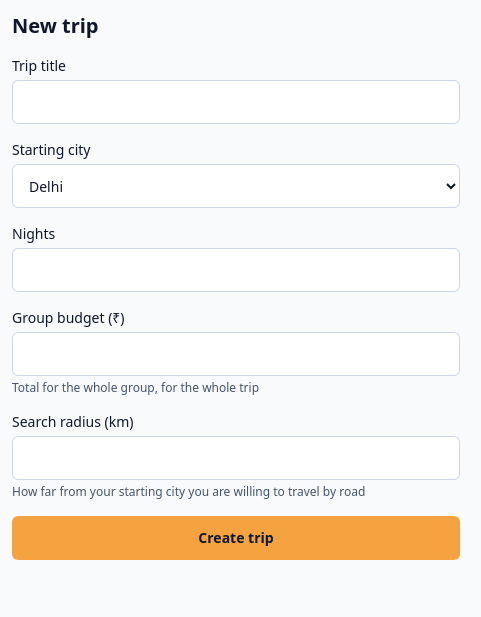
Test: TripForm › shows "Choose between 1 and 14 nights." for 15 and sends nothing
Type "Test weekend" into the field labelled "Trip title" at coordinates (236, 102), box x1=12 y1=80 x2=460 y2=124
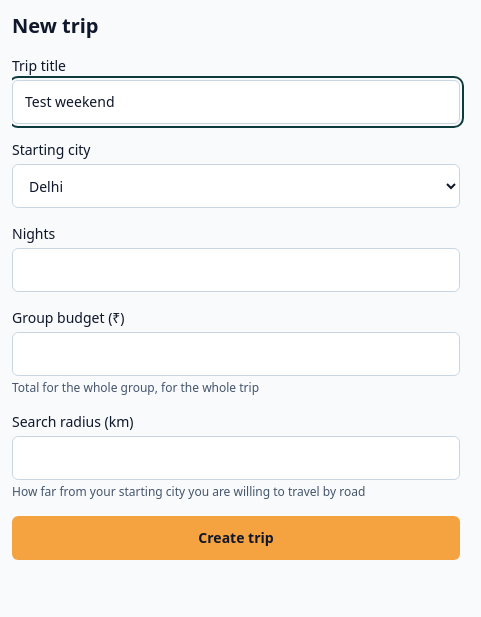
Select "Delhi" in the dropdown labelled "Starting city" at coordinates (236, 186), box x1=12 y1=164 x2=460 y2=208
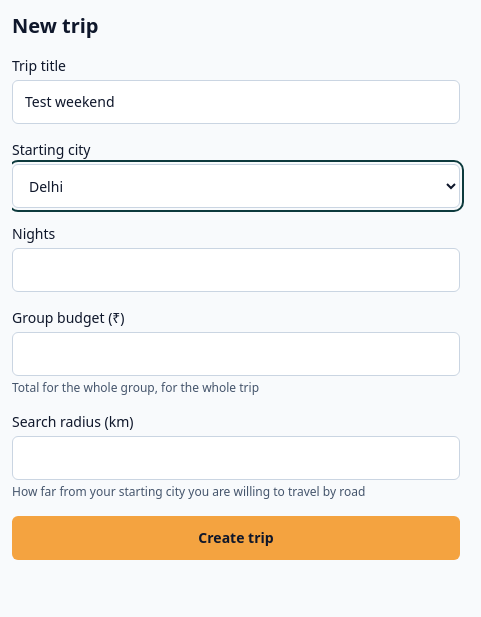
Type "15" into the field labelled "Nights" at coordinates (236, 270), box x1=12 y1=248 x2=460 y2=292
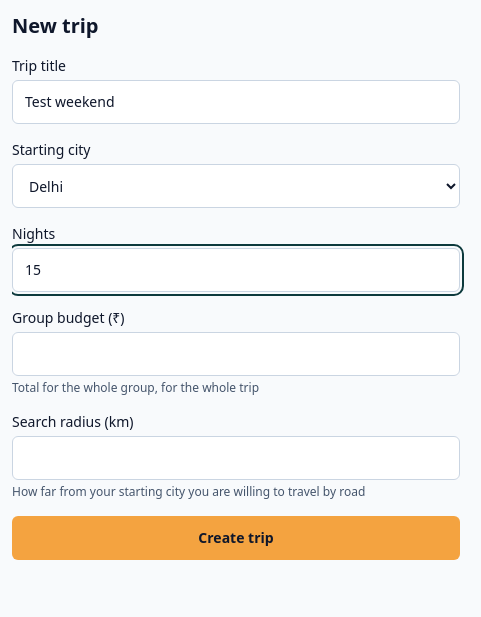
Type "30000" into the field labelled "Group budget (₹)" at coordinates (236, 354), box x1=12 y1=332 x2=460 y2=376
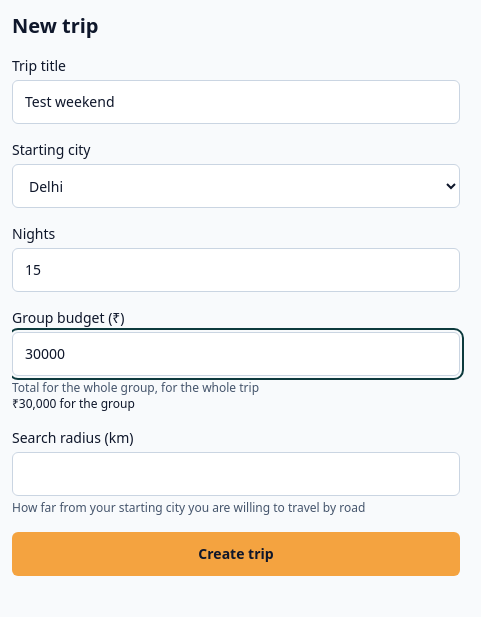
Type "300" into the field labelled "Search radius (km)" at coordinates (236, 474), box x1=12 y1=452 x2=460 y2=496
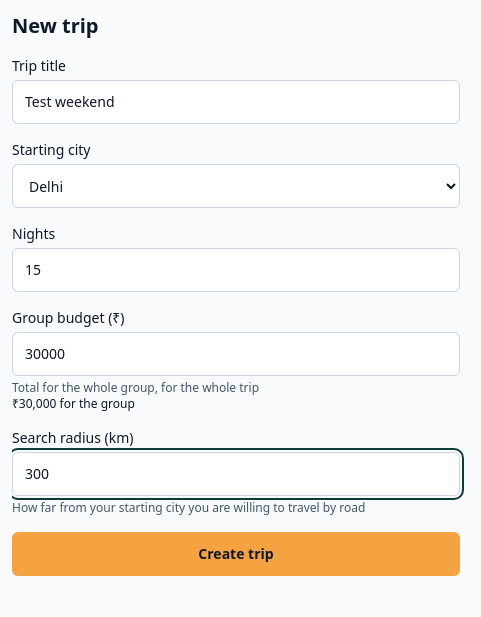
Click the button "Create trip" at coordinates (236, 554), box x1=12 y1=532 x2=460 y2=576
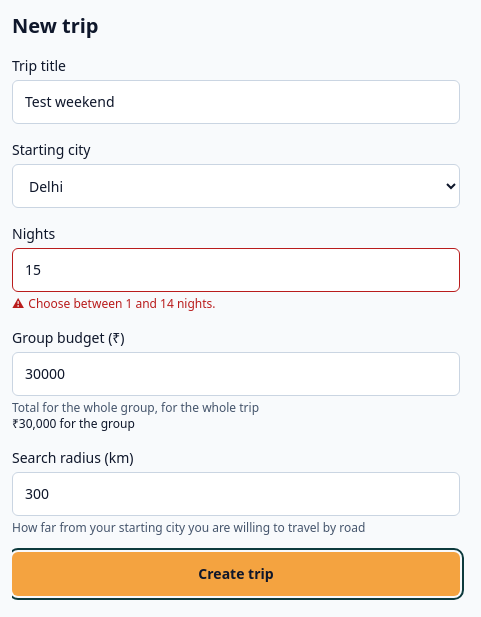
Check: the text "Choose between 1 and 14 nights." is shown, box x1=28 y1=295 x2=216 y2=312
